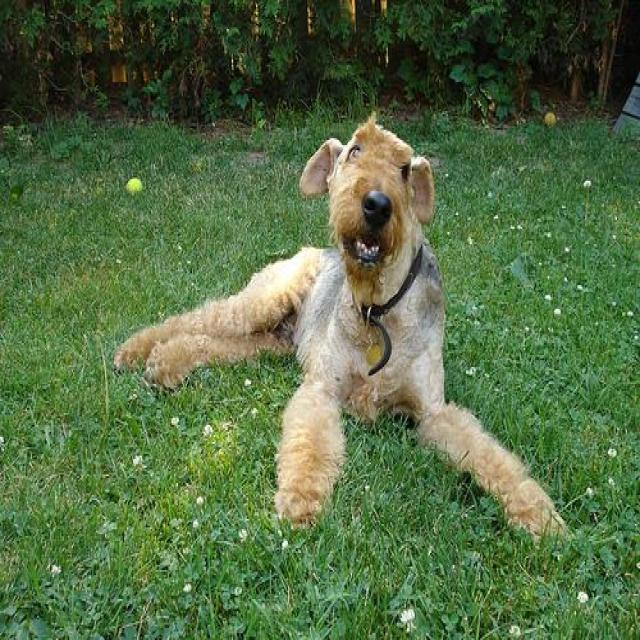airedale: (112, 109, 572, 548)
